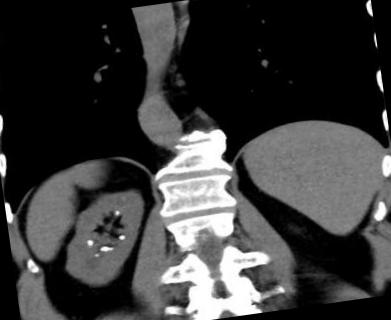Tas_Var: (98, 246, 110, 252), (118, 234, 125, 242), (86, 238, 94, 245), (93, 252, 99, 257), (115, 212, 120, 217), (108, 246, 114, 250), (116, 210, 120, 213)
